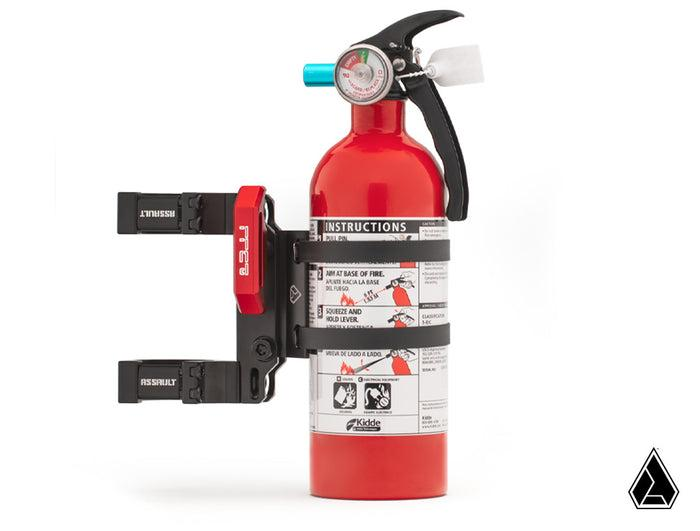Fire Extinguisher: (294, 0, 504, 507)
